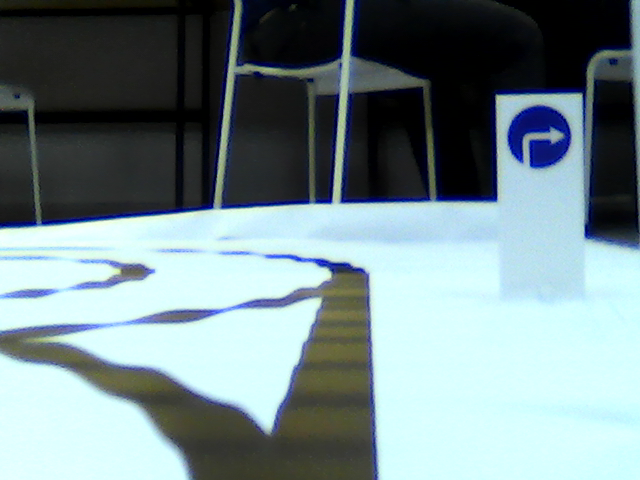Right: (506, 104, 574, 172)
